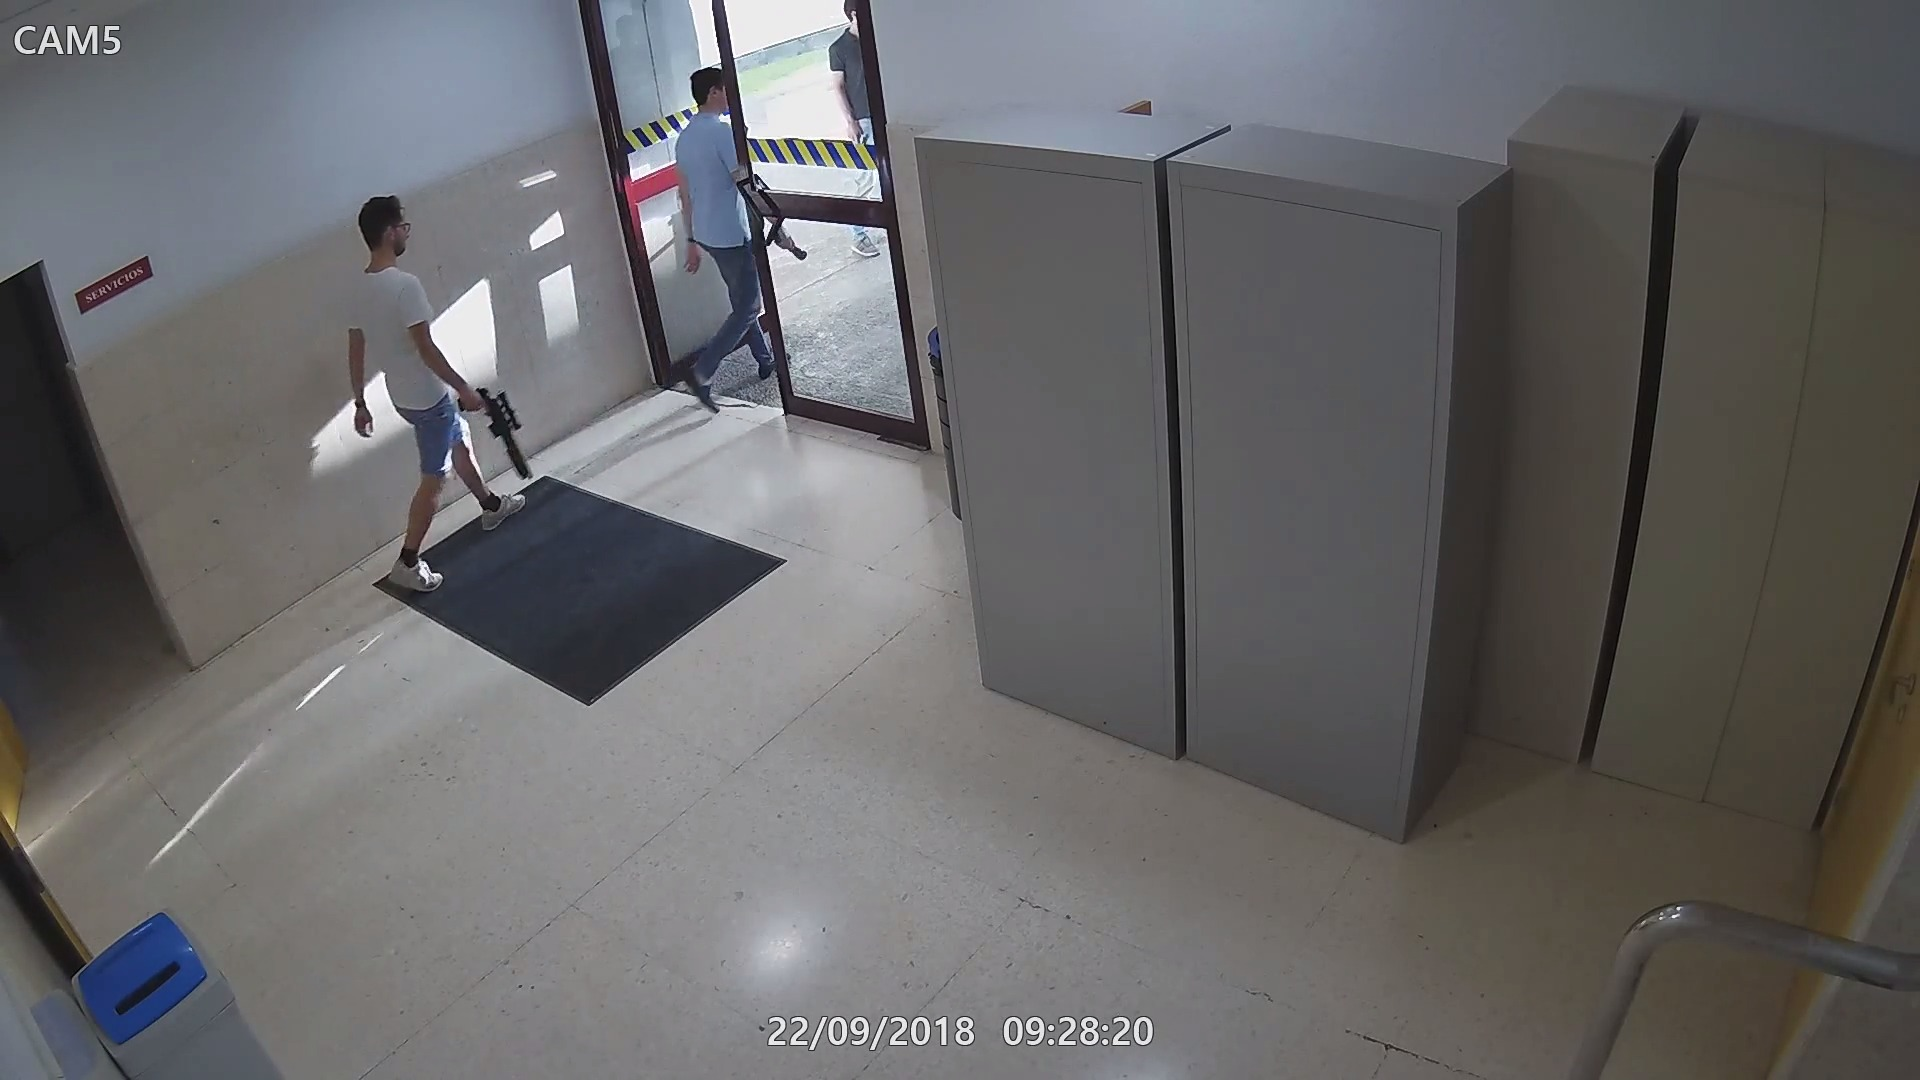rifle: (454, 382, 538, 477)
